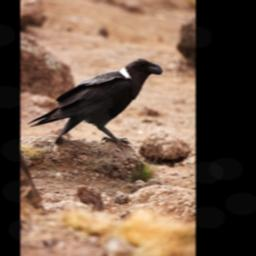Crow: (27, 55, 164, 154)
